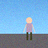person: (24, 17, 35, 40)
